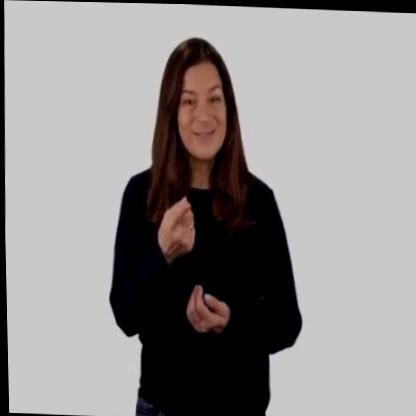HowAreYou: (142, 177, 246, 333)
